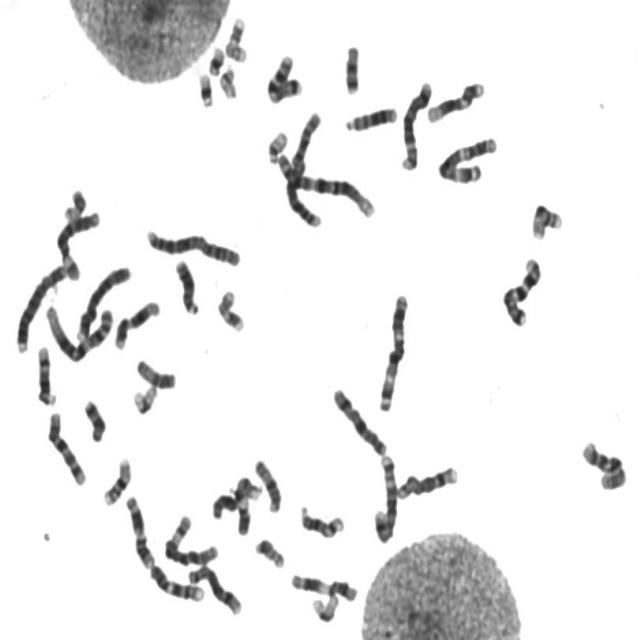A1: (273, 146, 378, 220), (41, 297, 116, 363)
A2: (282, 102, 328, 230), (142, 220, 245, 268)
A3: (375, 286, 413, 413), (434, 128, 501, 184)
B4: (12, 255, 70, 354), (72, 257, 134, 343)
B5: (397, 74, 436, 172), (370, 447, 401, 544)
C10: (43, 404, 90, 487), (578, 432, 630, 492)
C11: (121, 488, 158, 569), (288, 566, 362, 604)
C12: (424, 72, 488, 124), (111, 292, 164, 351)
C6: (53, 204, 104, 282), (161, 508, 222, 568)
C7: (498, 249, 545, 329), (263, 45, 306, 105)
C8: (184, 558, 245, 616), (392, 457, 462, 501)
C9: (146, 558, 208, 604), (232, 469, 264, 537)
D13: (342, 98, 401, 134), (171, 252, 203, 316)
D14: (296, 497, 348, 540), (33, 339, 59, 406)
D15: (251, 451, 284, 514), (133, 351, 180, 391)
E16: (99, 449, 135, 507), (528, 195, 566, 242)
E17: (214, 282, 248, 334), (221, 9, 251, 63)
E18: (80, 391, 110, 444), (341, 36, 364, 96)
F19: (129, 376, 161, 416), (308, 589, 342, 624)
F20: (251, 530, 288, 570), (60, 180, 90, 222)
G21: (194, 65, 216, 108), (204, 38, 228, 76)
G22: (264, 122, 291, 164), (215, 58, 241, 99)
X: (328, 380, 391, 457)
Y: (208, 486, 239, 519)
